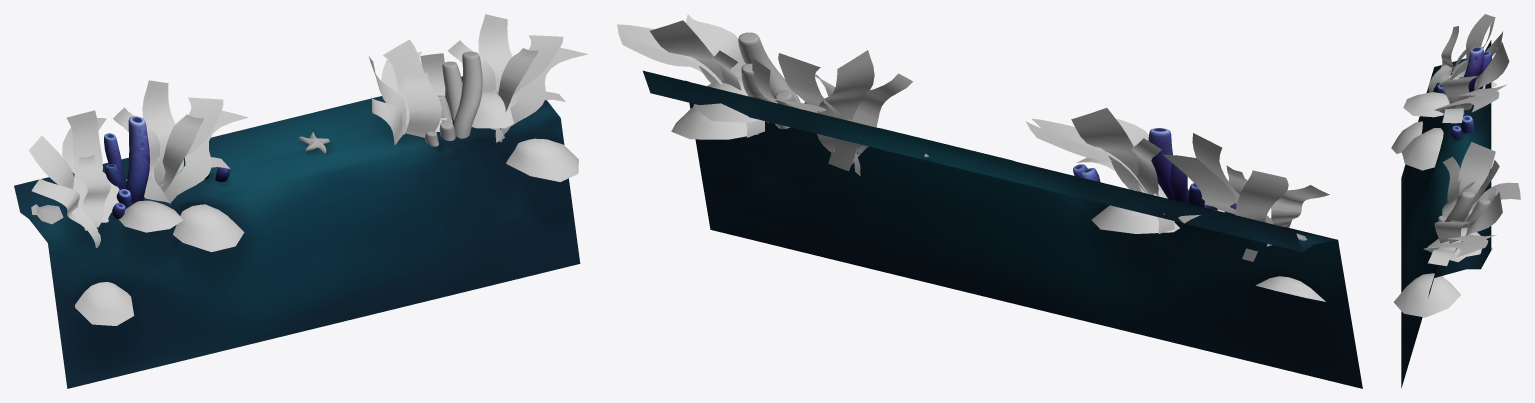
Rendered from Shelf4.fbx.
3 renders of one model, left to right at view 1: azimuth 30°, elevation 25°; view 2: azimuth 150°, elevation 25°; view 3: azimuth 270°, elevation 25°, orthographic. The views are drawn at different scales.
Visible parts, largest first — view 1: Shelf4; view 2: Shelf4; view 3: Shelf4.
Part boxes in pixels (box(x1,y1,x2,y2)): Shelf4: box(14, 14, 588, 388); Shelf4: box(617, 14, 1362, 388); Shelf4: box(1391, 14, 1520, 388).
Bounding box in the file's own units: 436 × 172 × 104.
